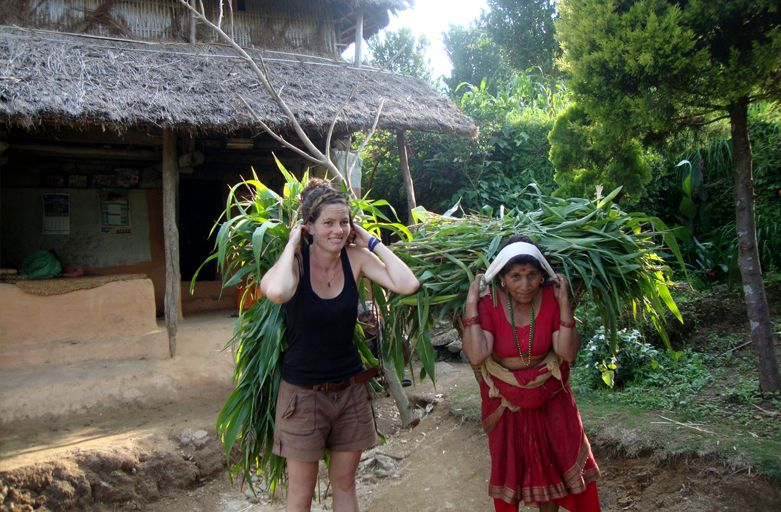human: (231, 176, 413, 512), (458, 237, 594, 512)
